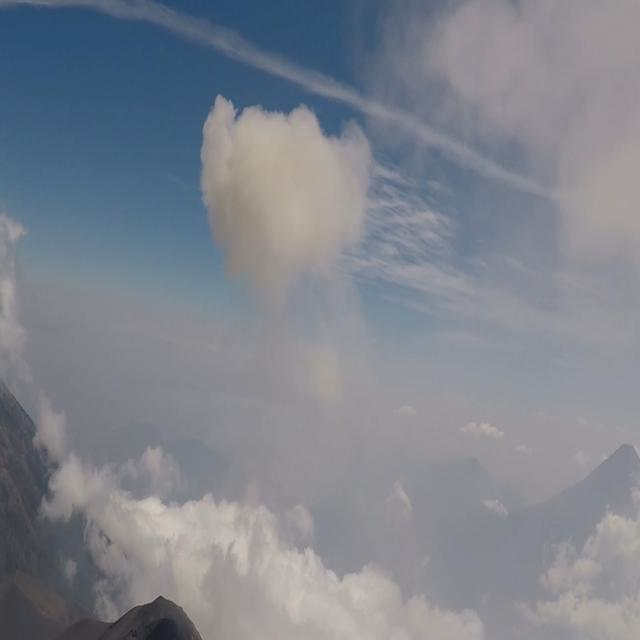Plume: (200, 85, 379, 319)
Summit: (49, 583, 213, 640)
